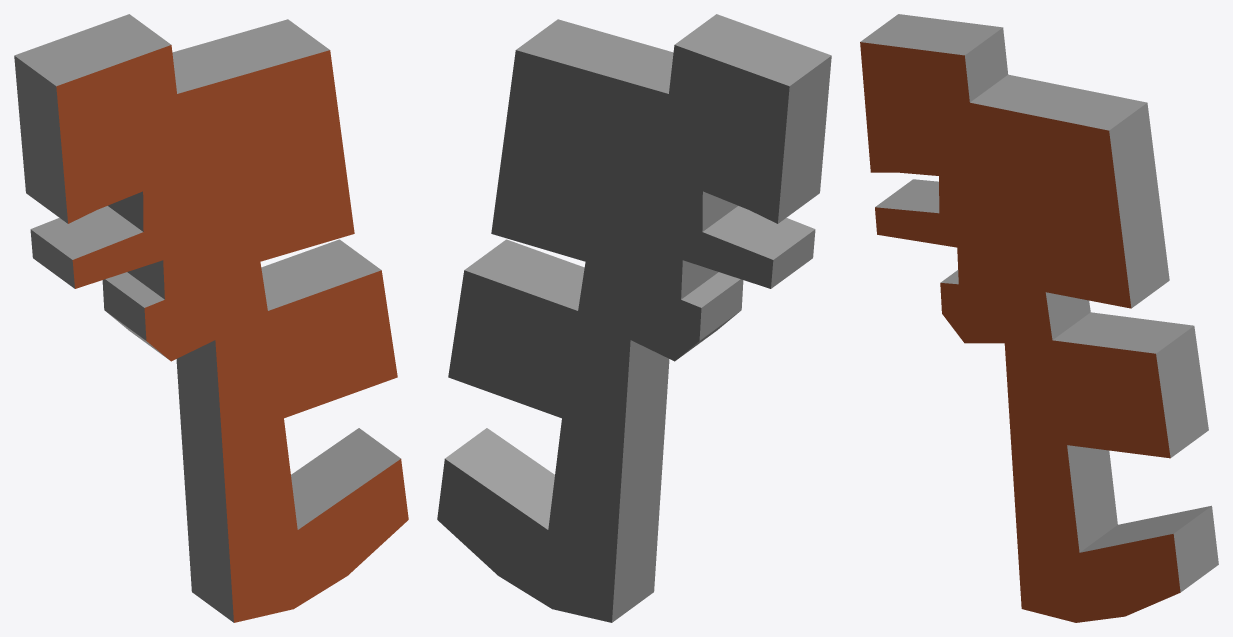
The model's file is construction_6003_assumed_A_Casa_h6m.obj.
3 renders of one model, left to right at view 1: azimuth 30°, elevation 25°; view 2: azimuth 150°, elevation 25°; view 3: azimuth 330°, elevation 25°, orthographic. The views are drawn at different scales.
Parts seen in each view (by area): view 1: construction_6003_assumed_A_Casa; view 2: construction_6003_assumed_A_Casa; view 3: construction_6003_assumed_A_Casa.
Boxes of the visible parts, x1,y1,x2,y2 form: construction_6003_assumed_A_Casa: [14, 14, 408, 622]; construction_6003_assumed_A_Casa: [437, 14, 831, 622]; construction_6003_assumed_A_Casa: [860, 14, 1218, 622].
Bounding box in the file's own units: 28.96 × 46.66 × 6.
